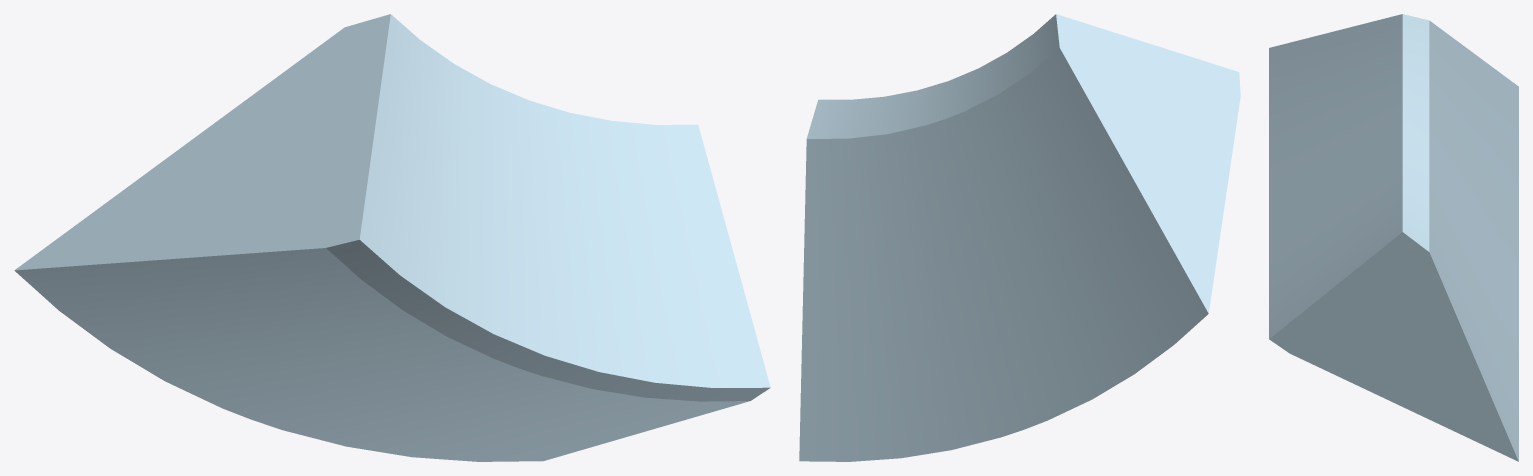
Rendered from Sub_2_Cell_3_2.gltf.
3 views of the same model, side by side, from view 1: azimuth 30°, elevation 25°; view 2: azimuth 150°, elevation 25°; view 3: azimuth 270°, elevation 25° (orthographic). The views are drawn at different scales.
Visible parts, largest first — view 1: Sub_2_Cell_3_2; view 2: Sub_2_Cell_3_2; view 3: Sub_2_Cell_3_2.
Boxes of the visible parts, bbox=[...] form: Sub_2_Cell_3_2: bbox=[14, 14, 770, 461]; Sub_2_Cell_3_2: bbox=[799, 14, 1240, 461]; Sub_2_Cell_3_2: bbox=[1269, 14, 1518, 461].
Size of the model in its own units: 0.0871 by 0.08 by 0.0488.
